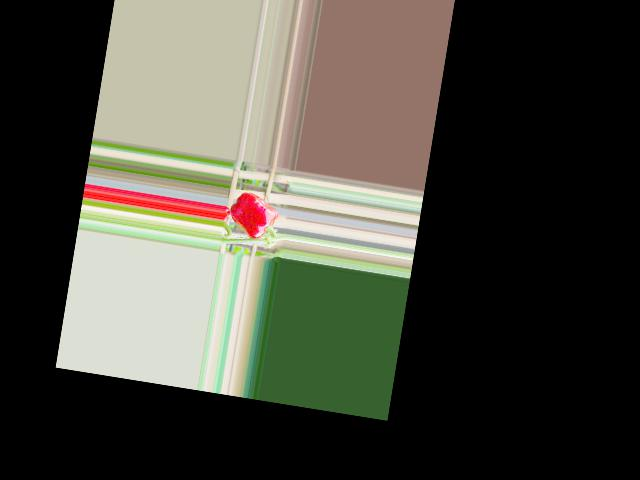bell_pepper: (226, 186, 281, 245)
